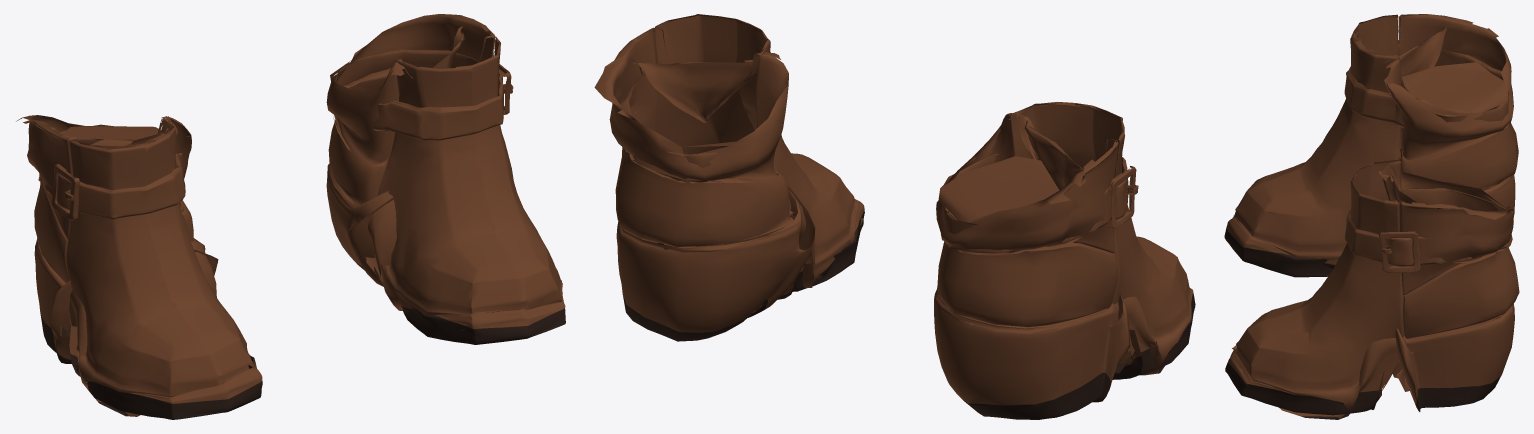
The model's file is shoes_f_m2booties.glb.
3 views of the same model, side by side, from view 1: azimuth 30°, elevation 25°; view 2: azimuth 150°, elevation 25°; view 3: azimuth 270°, elevation 25° (orthographic). The views are drawn at different scales.
Parts seen in each view (by area): view 1: shoes_f_m2booties; view 2: shoes_f_m2booties; view 3: shoes_f_m2booties.
Boxes of the visible parts, box(x1,y1,x2,y2) form: shoes_f_m2booties: box(16, 14, 565, 419); shoes_f_m2booties: box(594, 14, 1195, 419); shoes_f_m2booties: box(1224, 14, 1519, 419).
Bounding box in the file's own units: 0.4682 × 0.2393 × 0.2881.
Materials: 1 (1 with a texture image).
